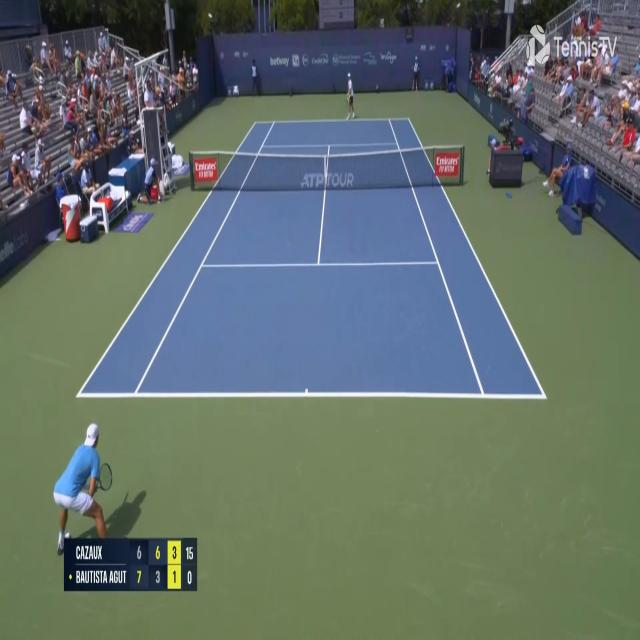tennis-player: (53, 418, 116, 557), (344, 70, 357, 121)
